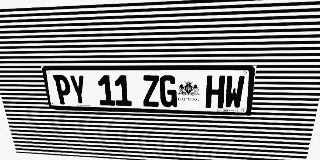1: (96, 75, 116, 106), (113, 75, 132, 106)
G: (159, 75, 177, 107)
H: (205, 75, 225, 108)
P: (53, 75, 73, 105)
W: (224, 75, 245, 109)
Y: (68, 75, 88, 105)
Z: (142, 75, 160, 107)
